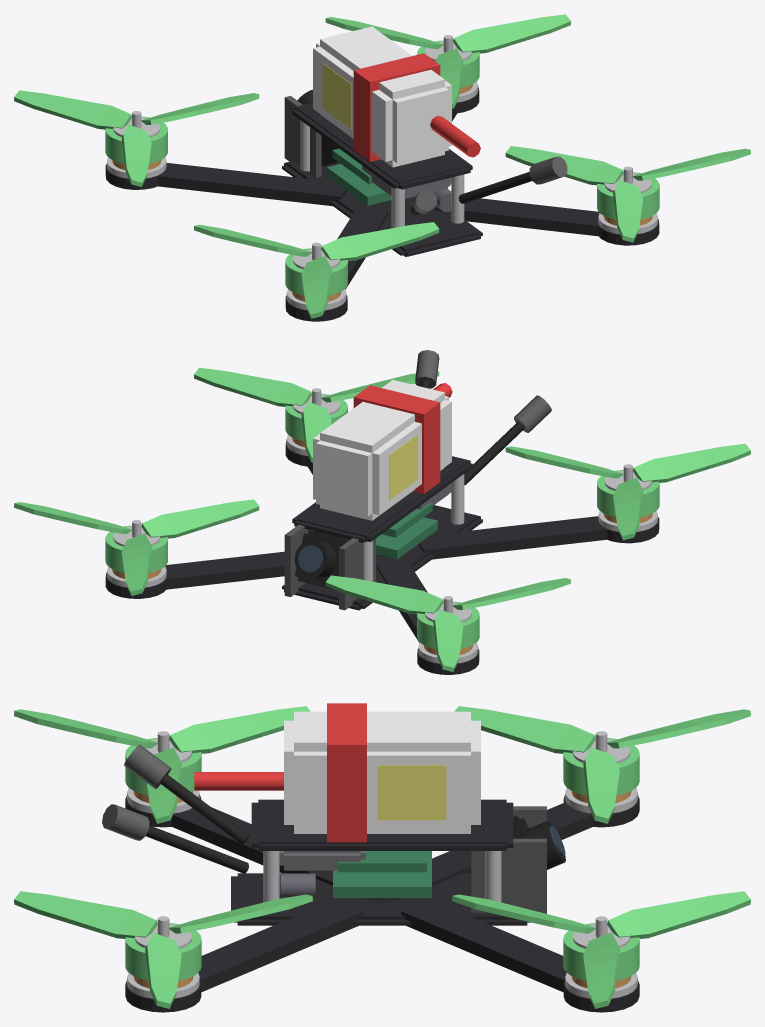
File: freestyle4.glb
3 views of the same model, one above another, from view 1: azimuth 30°, elevation 25°; view 2: azimuth 150°, elevation 25°; view 3: azimuth 270°, elevation 25° (orthographic). The views are drawn at different scales.
Parts seen in each view (by area): view 1: body, prop_RL, prop_FL, prop_RR, prop_FR, cam_mount, fpv_cam; view 2: body, prop_RL, prop_FR, prop_FL, prop_RR, cam_mount, fpv_cam; view 3: body, prop_FR, prop_RR, prop_FL, prop_RL, cam_mount, fpv_cam.
Part boxes in pixels (x1,y1,x2,y2): body: (105,26,659,321); prop_RL: (194,200,439,318); prop_FL: (14,90,390,203); prop_RR: (505,146,750,242); prop_FR: (325,14,570,108); cam_mount: (284,95,321,177); fpv_cam: (297,89,338,166); body: (105,350,659,674); prop_RL: (376,443,750,556); prop_FR: (14,499,259,595); prop_FL: (325,554,570,671); prop_RR: (194,367,439,461); cam_mount: (284,524,375,610); fpv_cam: (294,530,349,589); body: (102,703,639,1012); prop_FR: (452,891,750,1008); prop_RR: (14,891,312,1008); prop_FL: (366,706,750,902); prop_RL: (14,706,397,899); cam_mount: (471,806,546,913); fpv_cam: (513,815,565,869).
Size of the model in its own units: 0.21 by 0.0628 by 0.2221.
